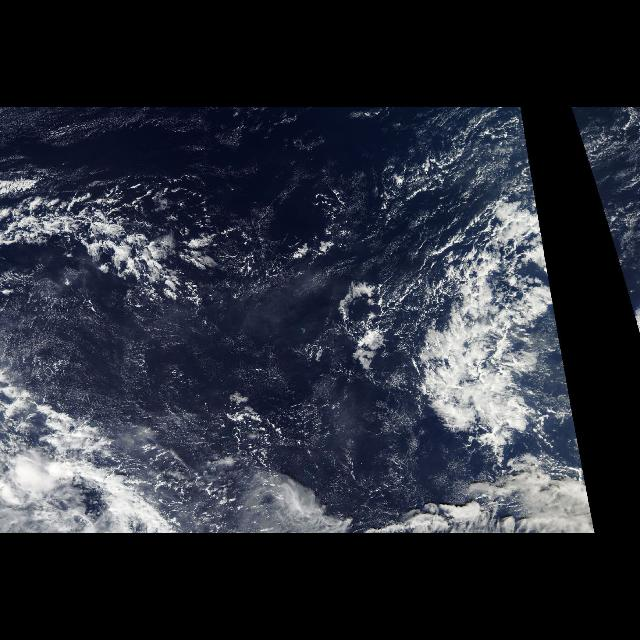Fish: (6, 114, 344, 396), (358, 208, 554, 464)
Gravel: (399, 118, 496, 262)
Sugar: (4, 284, 290, 411)
